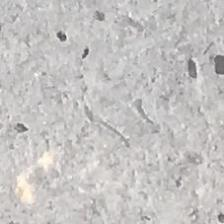Non_Crack: (19, 84, 194, 210)
